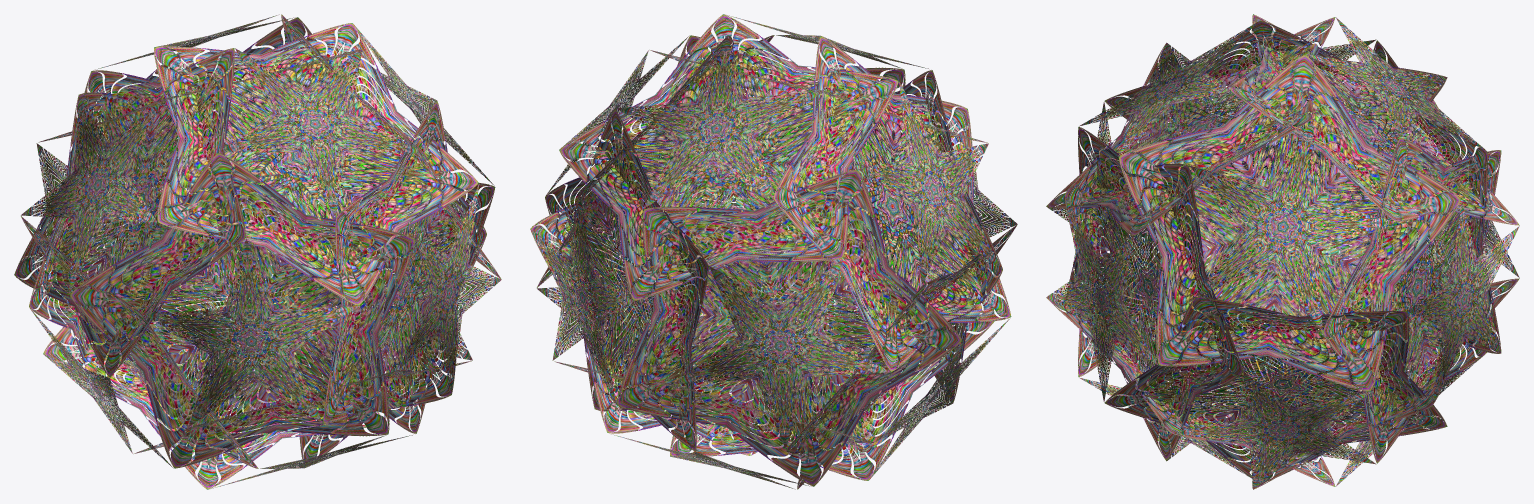
The model's file is 10SnubIcosidodecadodecahedron.gltf.
The picture shows the model from 3 angles, left to right: view 1: azimuth 30°, elevation 25°; view 2: azimuth 150°, elevation 25°; view 3: azimuth 270°, elevation 25°; orthographic projection.
Parts seen in each view (by area): view 1: 7SnubIcosidodecadodecahedron; view 2: 7SnubIcosidodecadodecahedron; view 3: 7SnubIcosidodecadodecahedron.
Part boxes in pixels (box(x1,y1,x2,y2)): 7SnubIcosidodecadodecahedron: box(14, 14, 501, 489); 7SnubIcosidodecadodecahedron: box(530, 14, 1017, 489); 7SnubIcosidodecadodecahedron: box(1046, 14, 1519, 489).
Bounding box in the file's own units: 2.21 × 2.21 × 2.21.
1 material, 1 textured.
